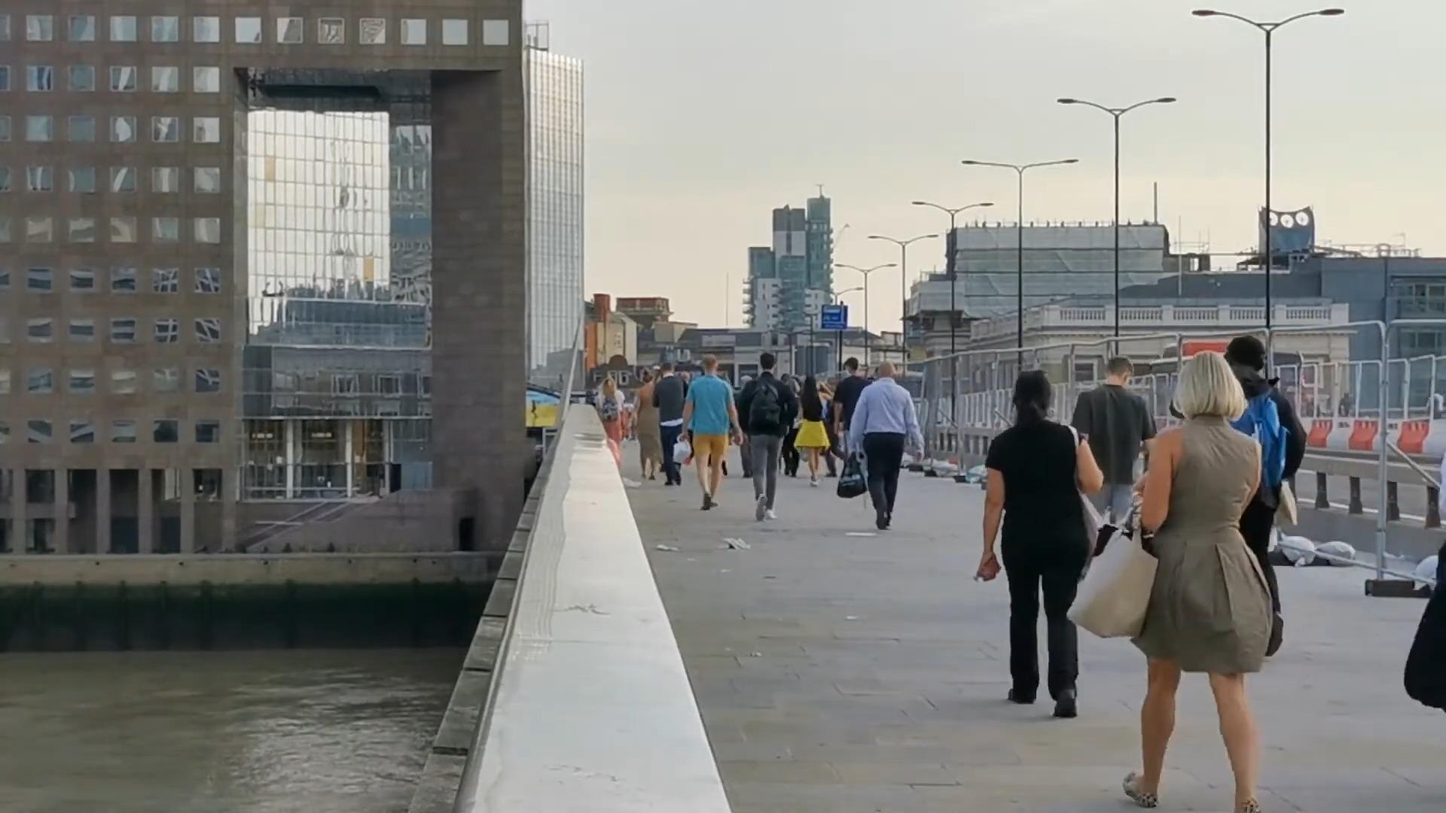no-helmet: (1175, 351, 1248, 425), (1010, 370, 1052, 435), (1103, 356, 1136, 387), (801, 375, 820, 403), (876, 360, 898, 382), (760, 353, 776, 375)
